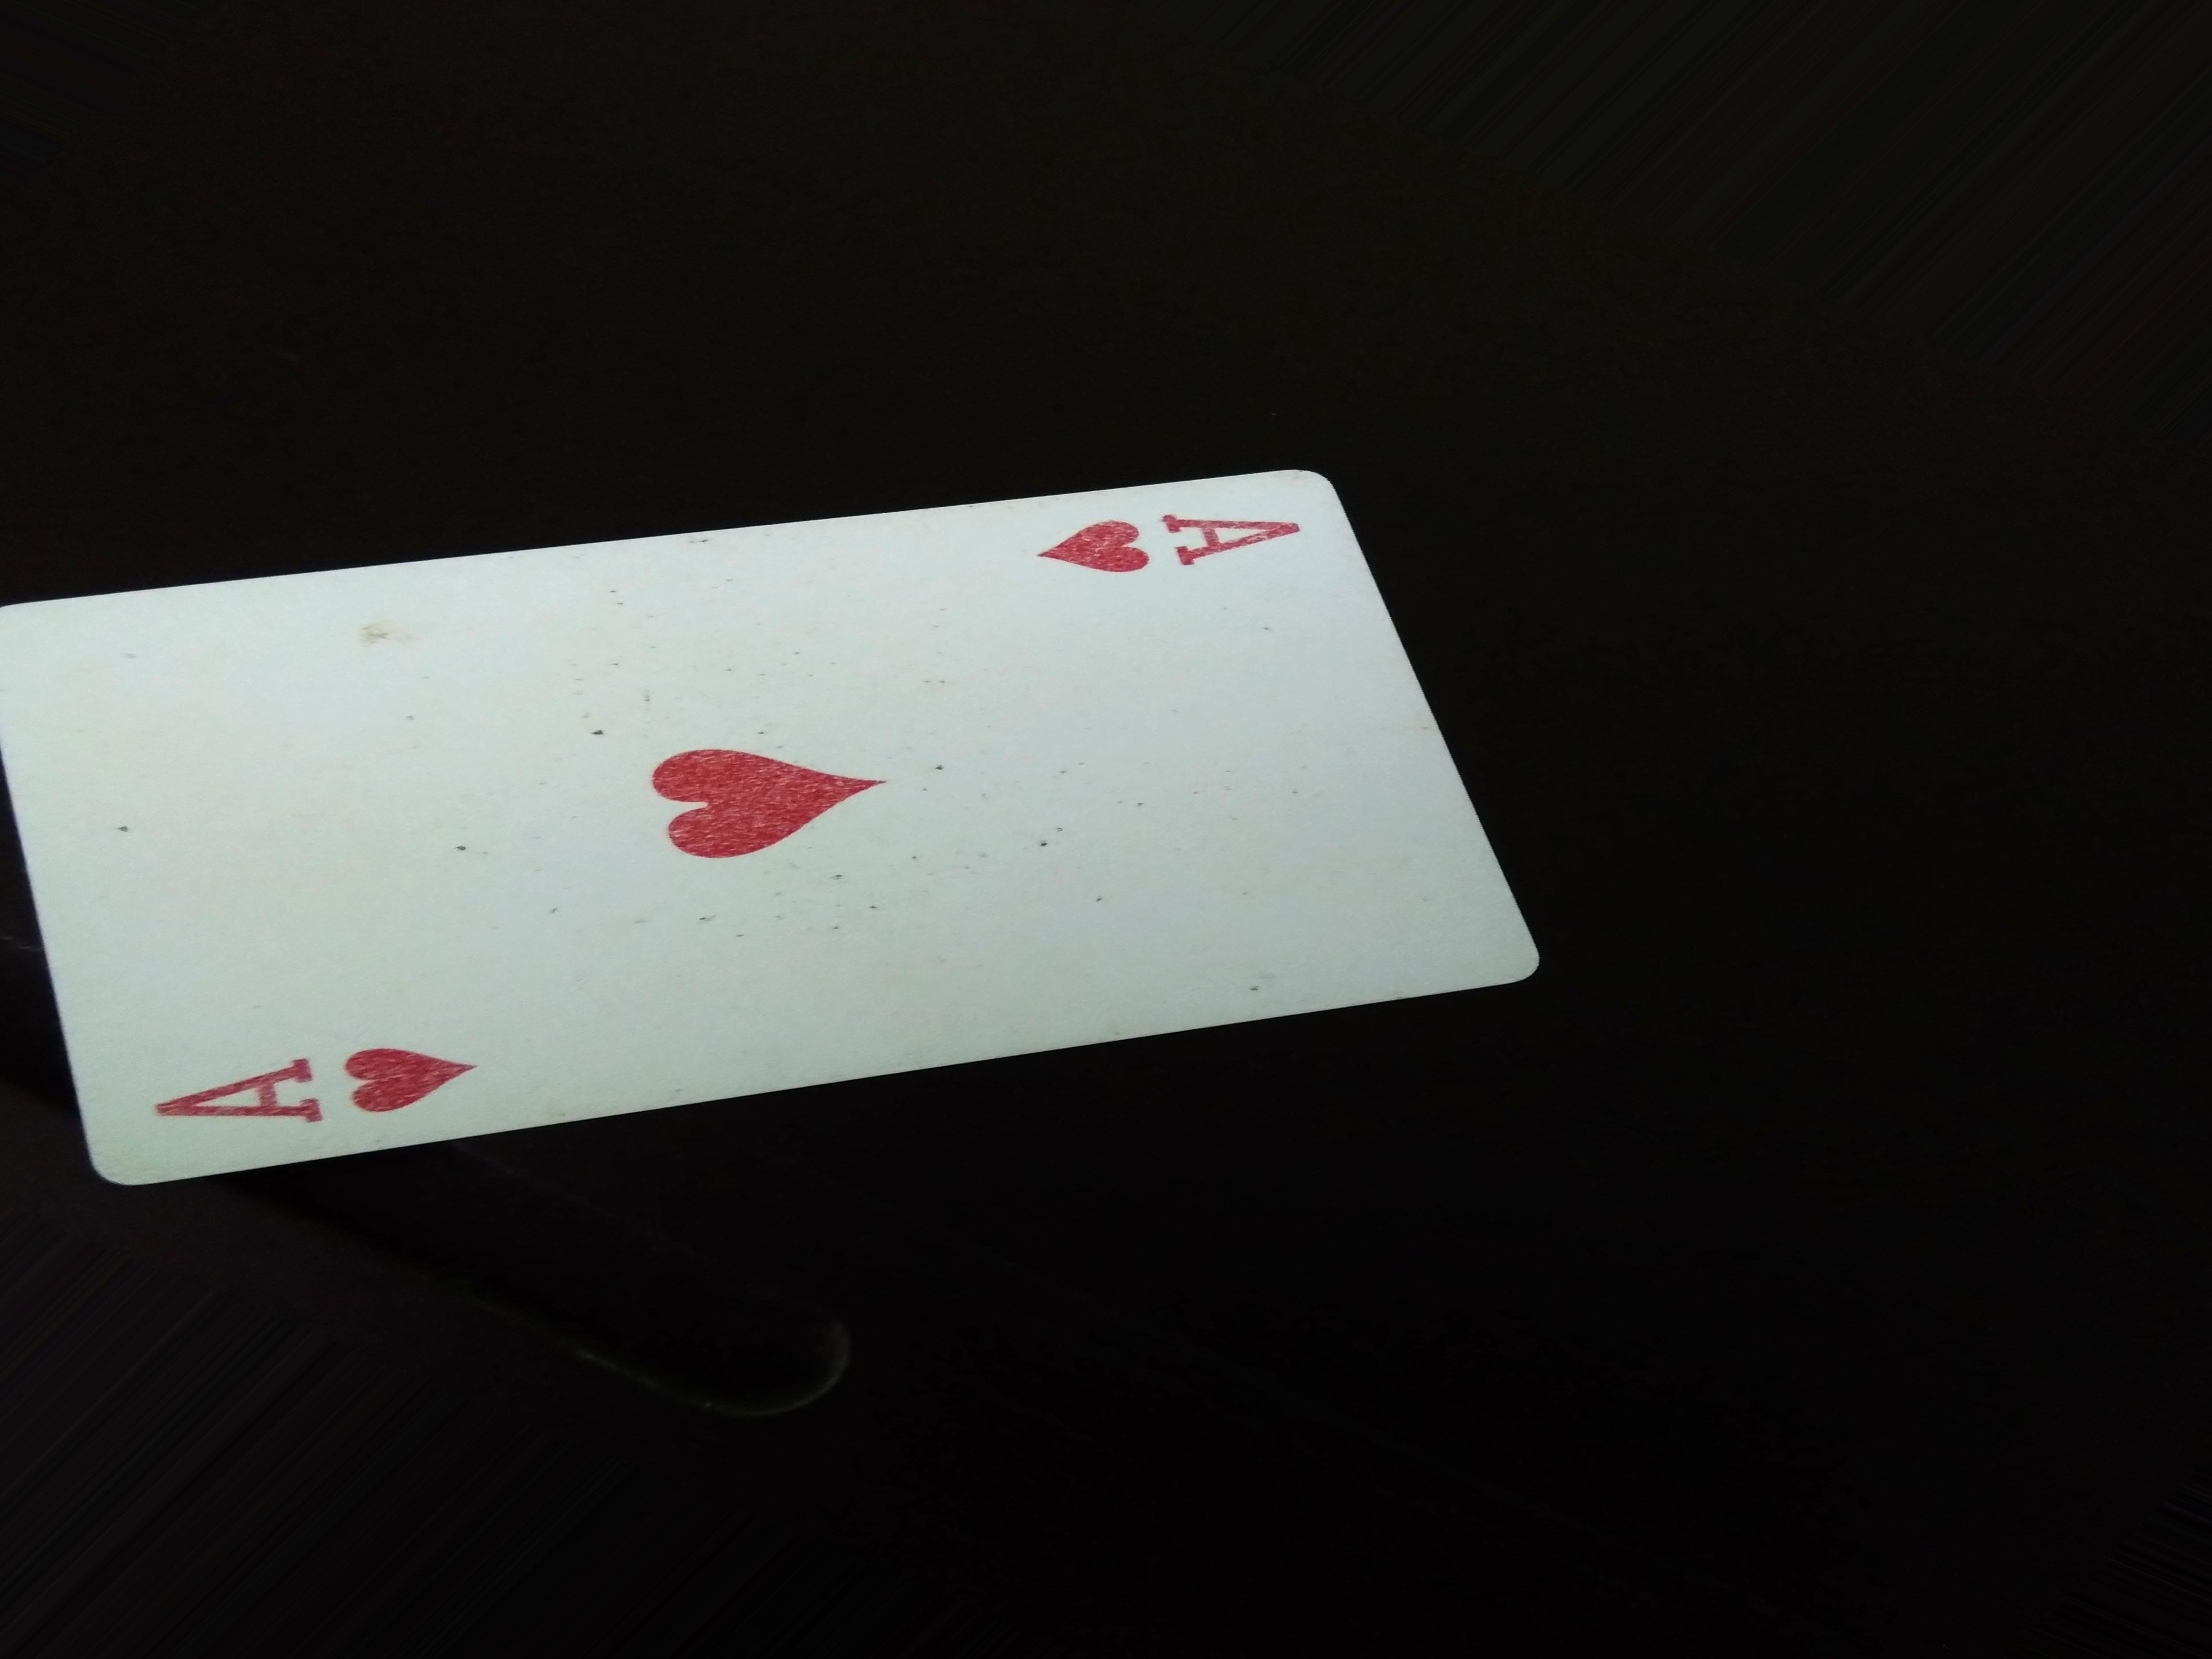AH: (1021, 491, 1322, 586)
